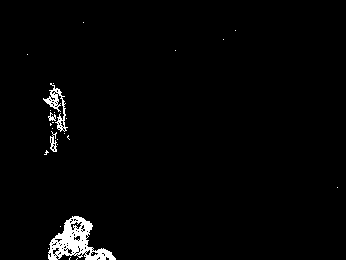person: (43, 82, 70, 154)
